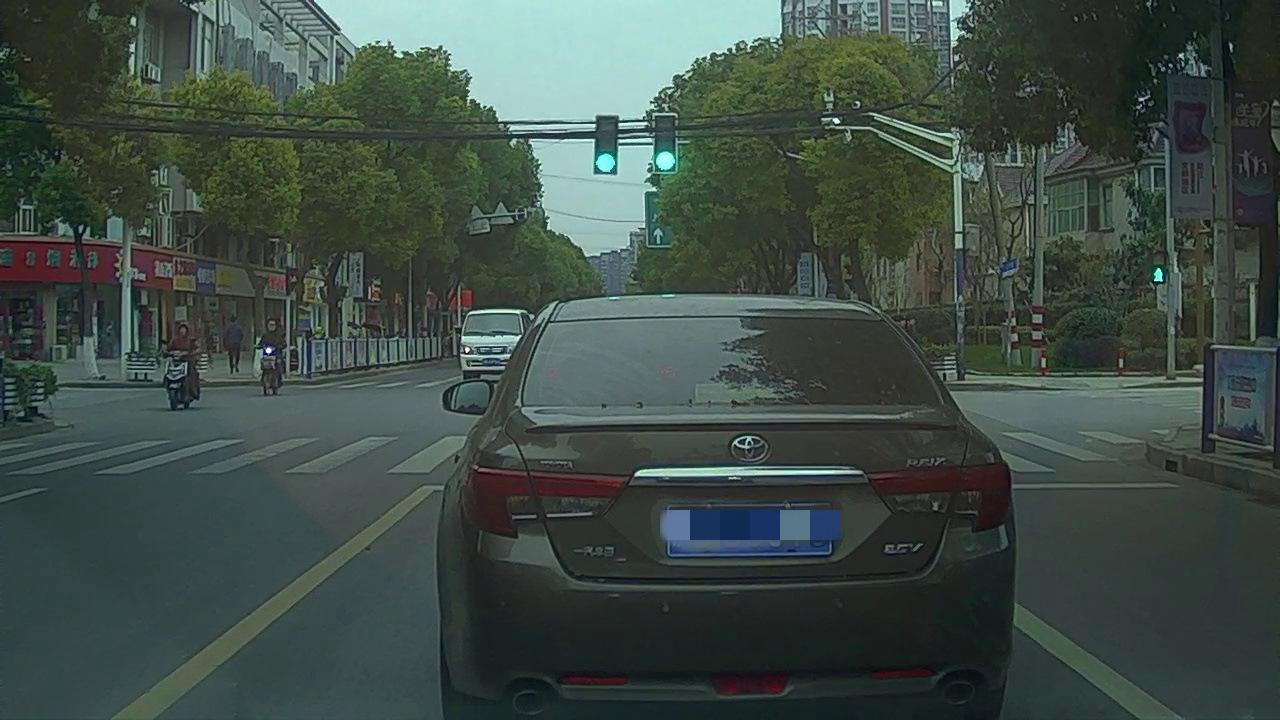traffic_light: (655, 116, 677, 173), (597, 118, 615, 175)
